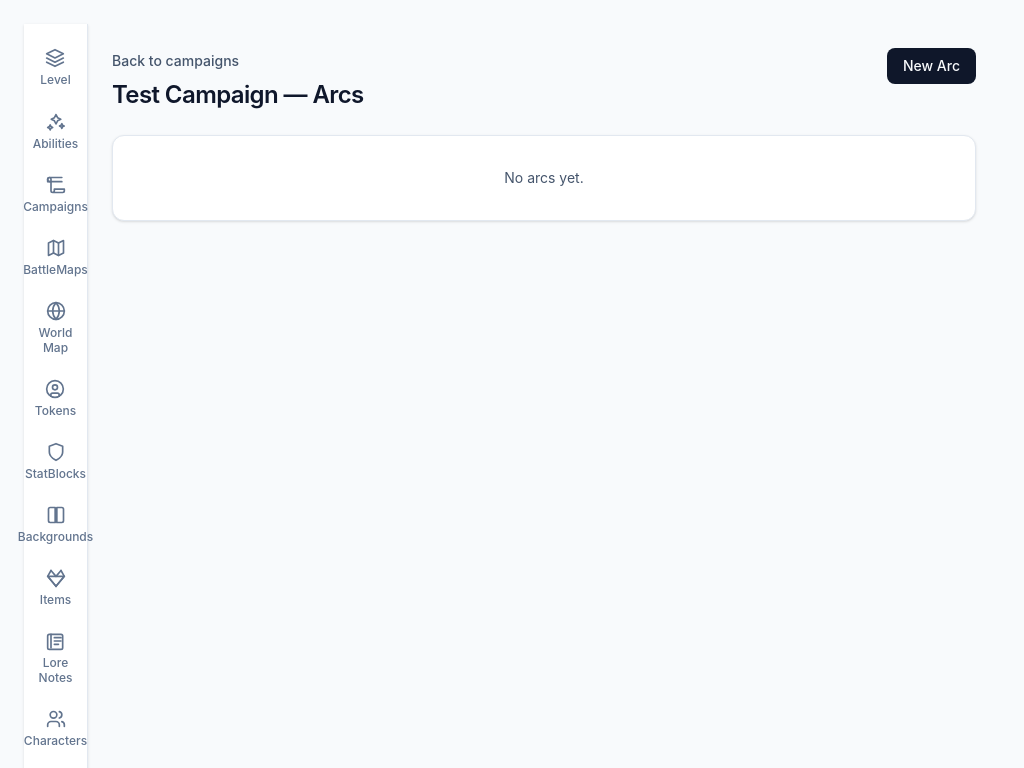
Test case: ArcsPage › create arc › closes create dialog when Cancel is clicked
Expected: the text "No arcs yet." is shown, [504, 169, 584, 186]
Click the button "New Arc". click: (931, 66)
box: [887, 48, 976, 84]
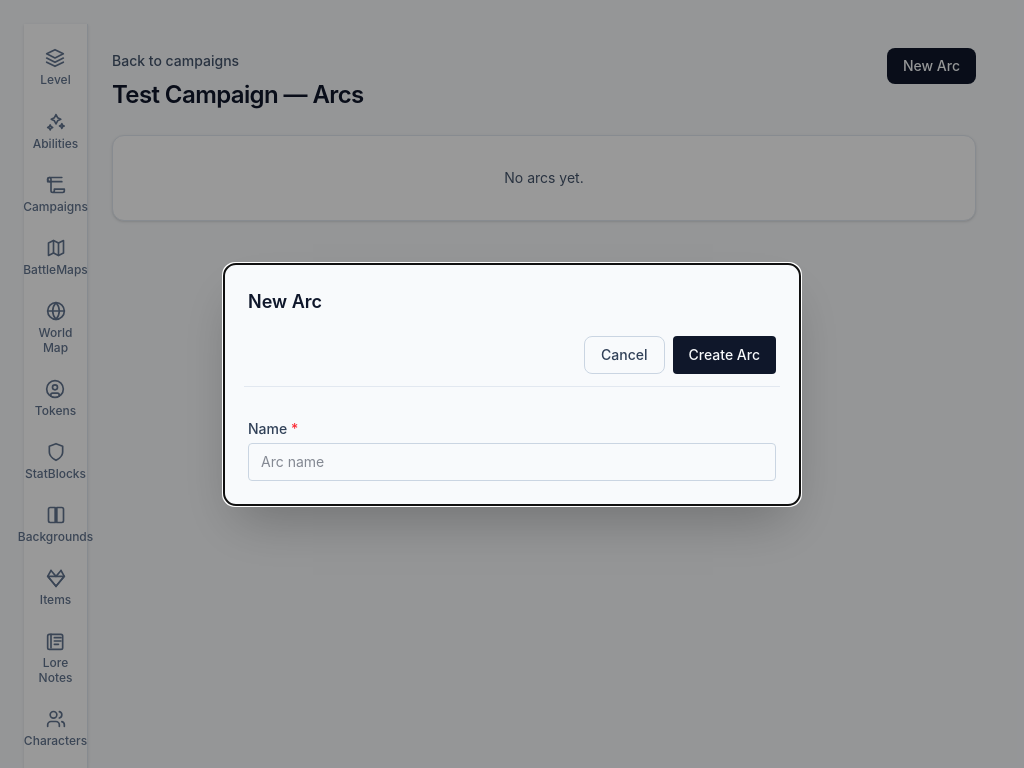
Click the button "Cancel". click: (624, 354)
box: [584, 336, 664, 374]
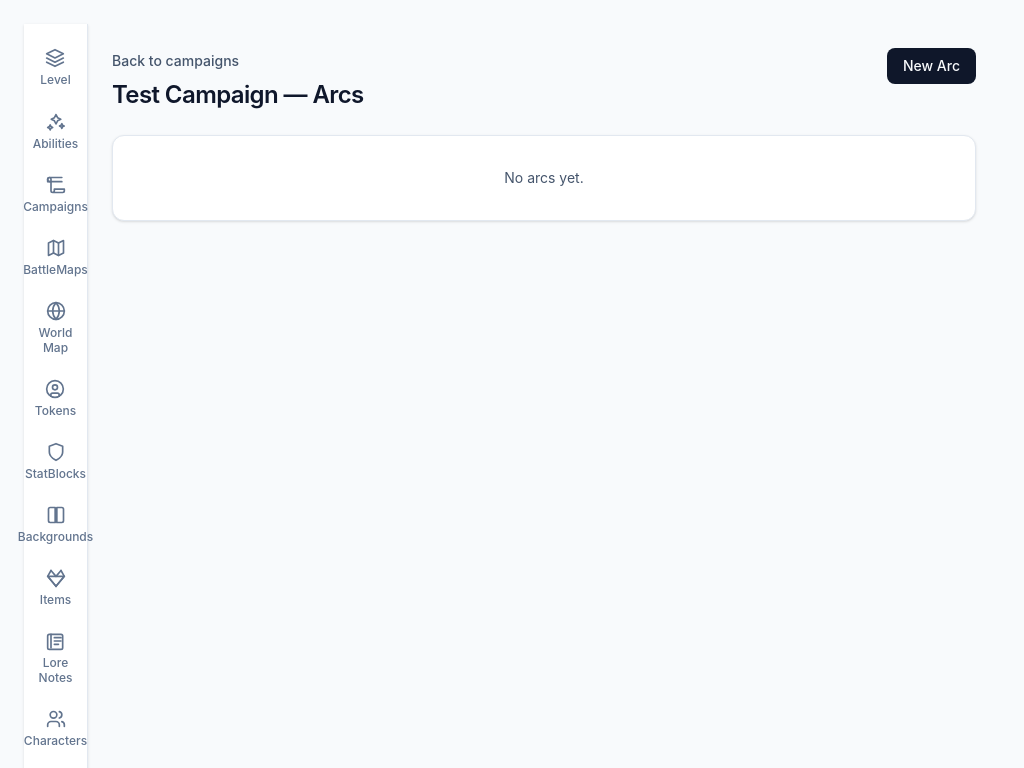
Expected: the dialog is gone
